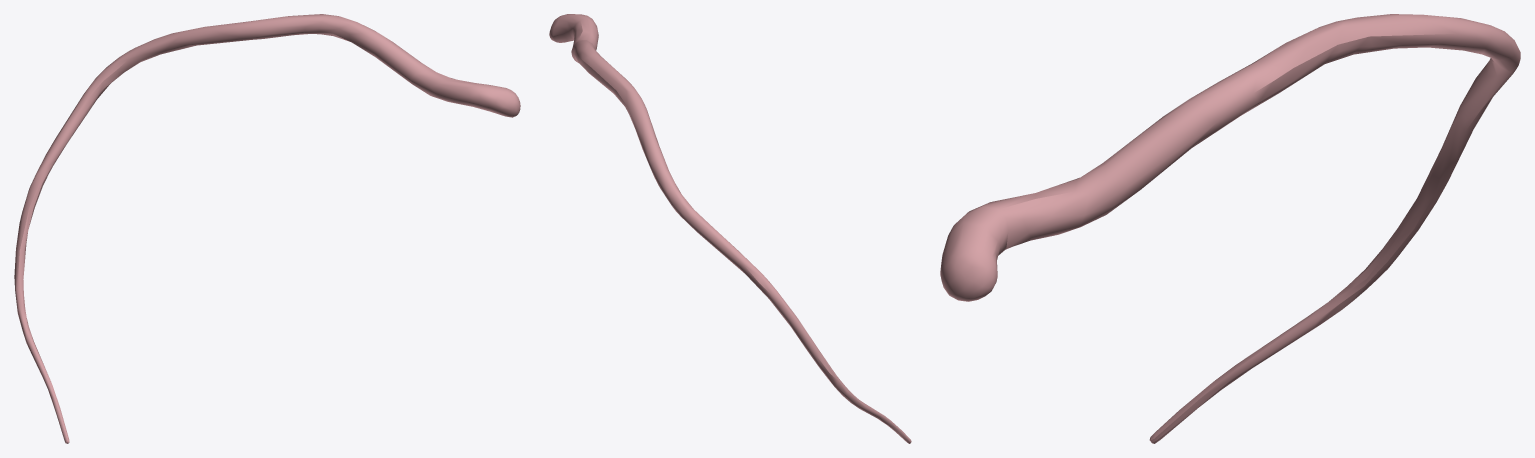
The model's file is fma71870_fj3108.glb.
The picture shows the model from 3 angles, left to right: view 1: azimuth 30°, elevation 25°; view 2: azimuth 150°, elevation 25°; view 3: azimuth 270°, elevation 25°; orthographic projection. The views are drawn at different scales.
Visible parts, largest first — view 1: FMA71870_FJ3108; view 2: FMA71870_FJ3108; view 3: FMA71870_FJ3108.
Part boxes in pixels (x1=…): FMA71870_FJ3108: x1=14, y1=14, x2=520, y2=443; FMA71870_FJ3108: x1=549, y1=14, x2=911, y2=443; FMA71870_FJ3108: x1=940, y1=14, x2=1520, y2=443.
Bounding box in the file's own units: 0.0547 × 0.0436 × 0.0354.
